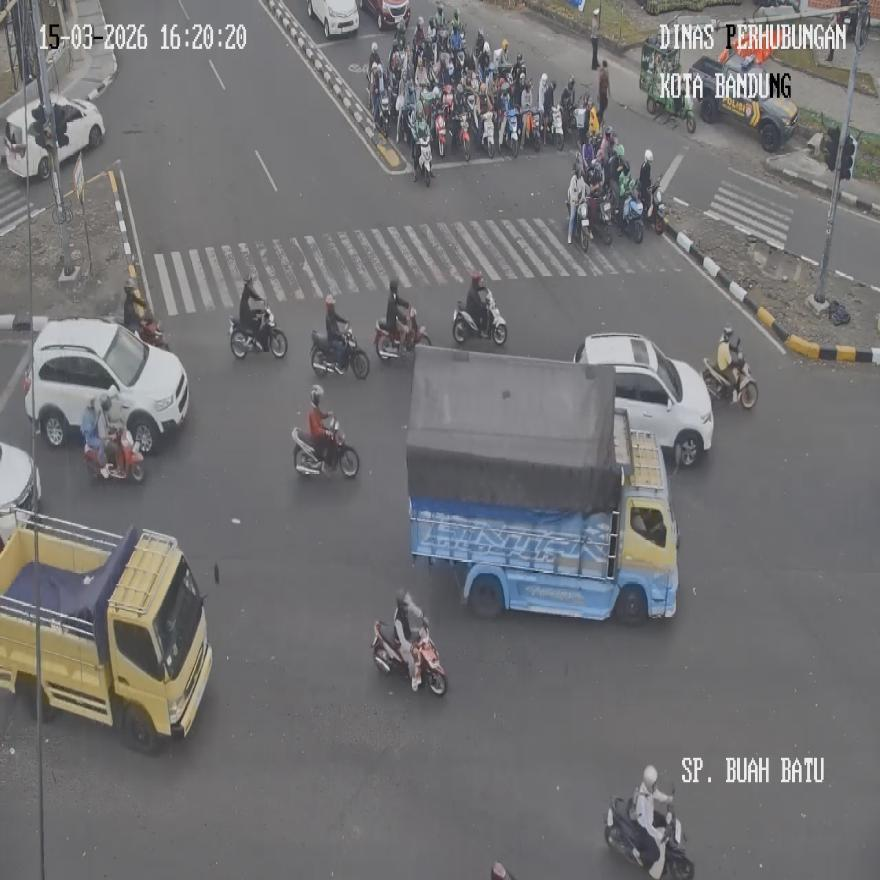Mobil: (24, 319, 190, 455), (573, 334, 714, 467)
Motor: (292, 418, 359, 479), (702, 354, 758, 410), (229, 307, 288, 359), (374, 307, 431, 360), (311, 328, 369, 380), (453, 290, 507, 345), (652, 810, 695, 879), (412, 619, 447, 696), (647, 92, 696, 134), (107, 429, 145, 482), (137, 313, 169, 350), (592, 195, 614, 245), (622, 192, 643, 243), (648, 181, 666, 234), (500, 108, 519, 157), (573, 201, 589, 253), (573, 92, 589, 143), (523, 107, 541, 152), (442, 85, 454, 151), (456, 112, 470, 161), (418, 135, 431, 186), (550, 104, 564, 151), (561, 103, 578, 140), (395, 86, 406, 143), (482, 112, 494, 157), (435, 113, 446, 157), (380, 93, 390, 138), (403, 108, 415, 144), (455, 41, 466, 77), (437, 28, 449, 54)
Truk menengah: (406, 347, 679, 625), (0, 510, 212, 753)
